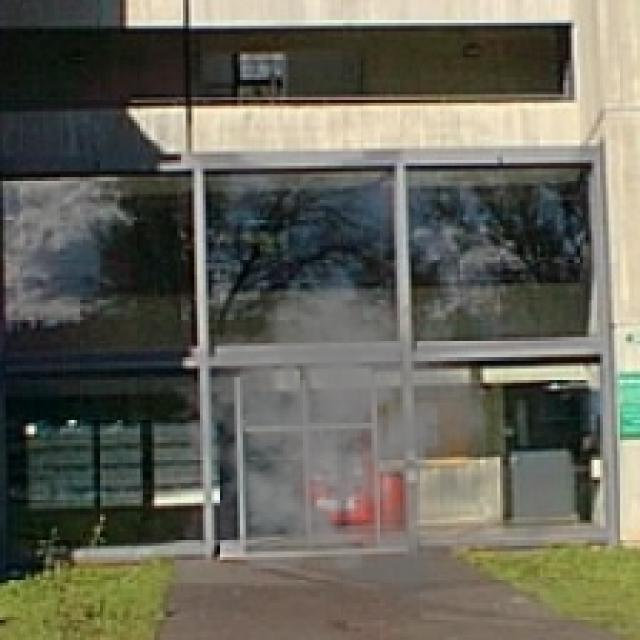Smoke: (175, 266, 600, 612)
